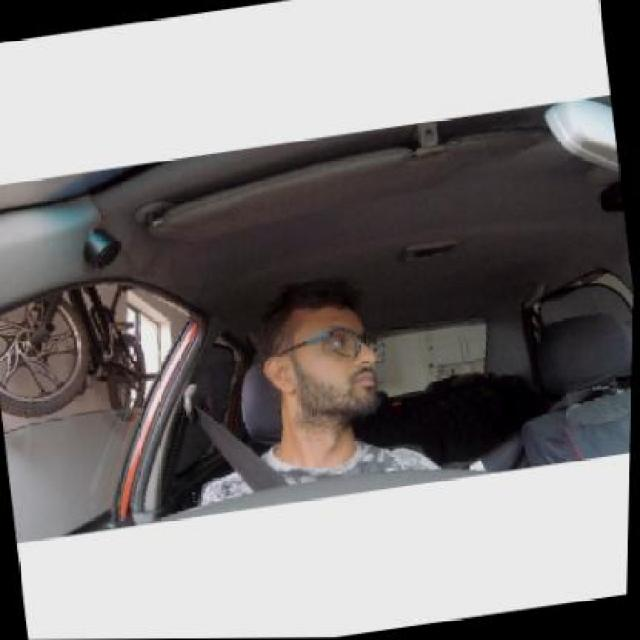LeftRight: (256, 280, 385, 424)
